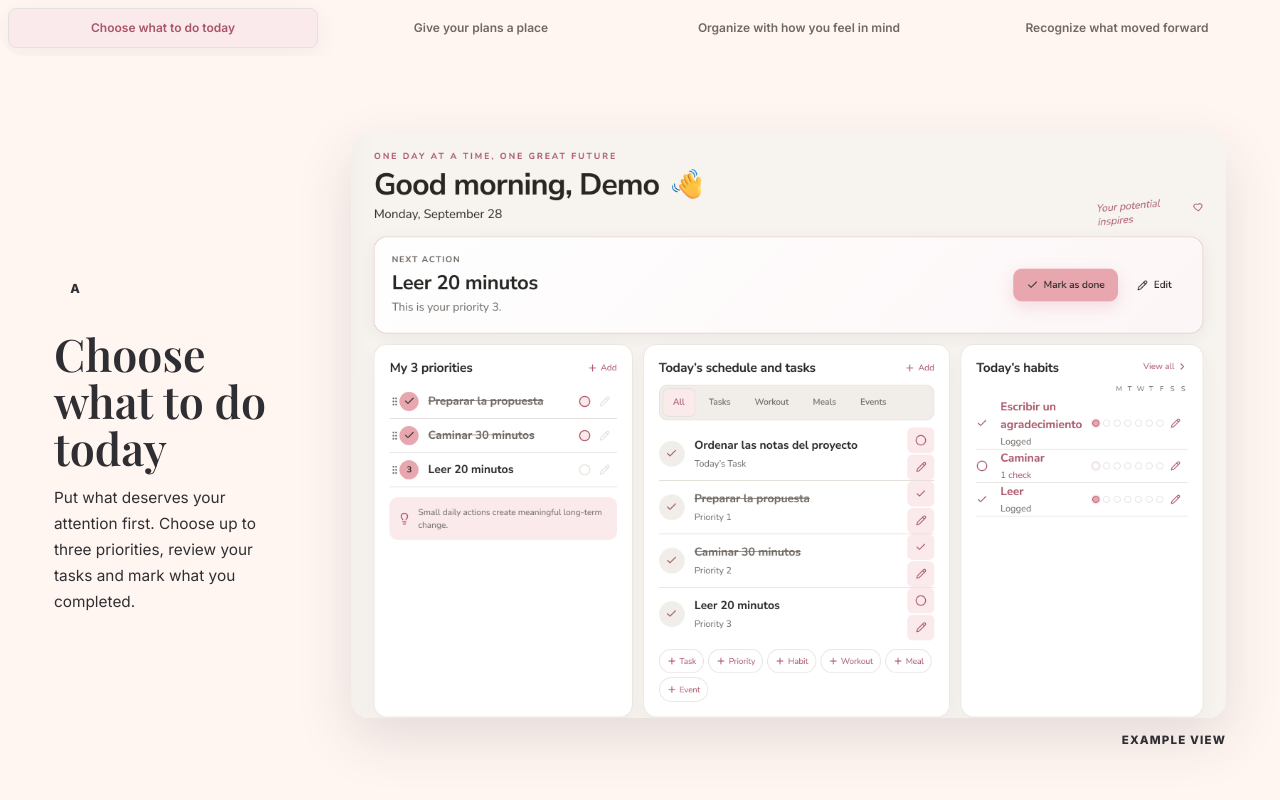
Scenario: selector accesible de momentos del producto › renderiza e interactúa el selector en inglés sin mezclar el copy
Step 1. Click the tab "Organize with how you feel in mind" → (799, 28), box 644,8 -> 954,48
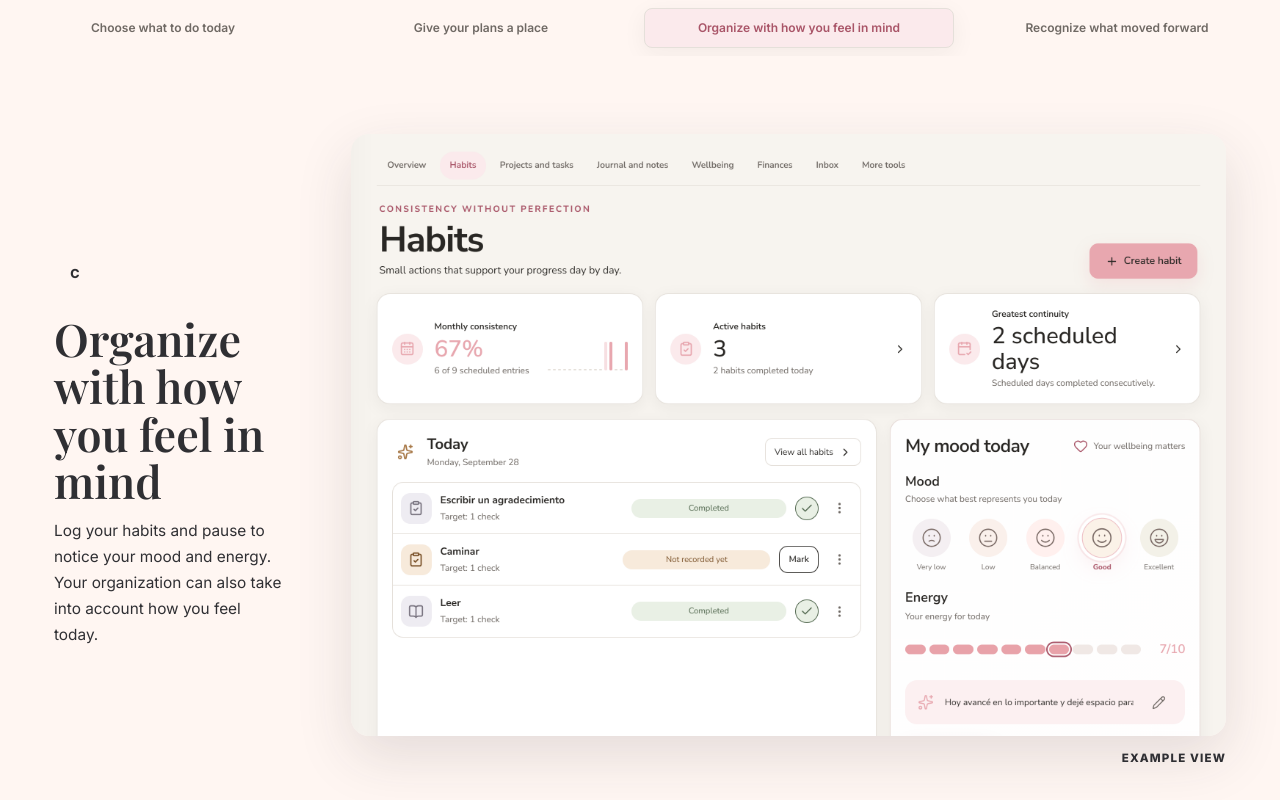
Now the heading "Organize with how you feel in mind" is shown, box 54,315 -> 287,504
